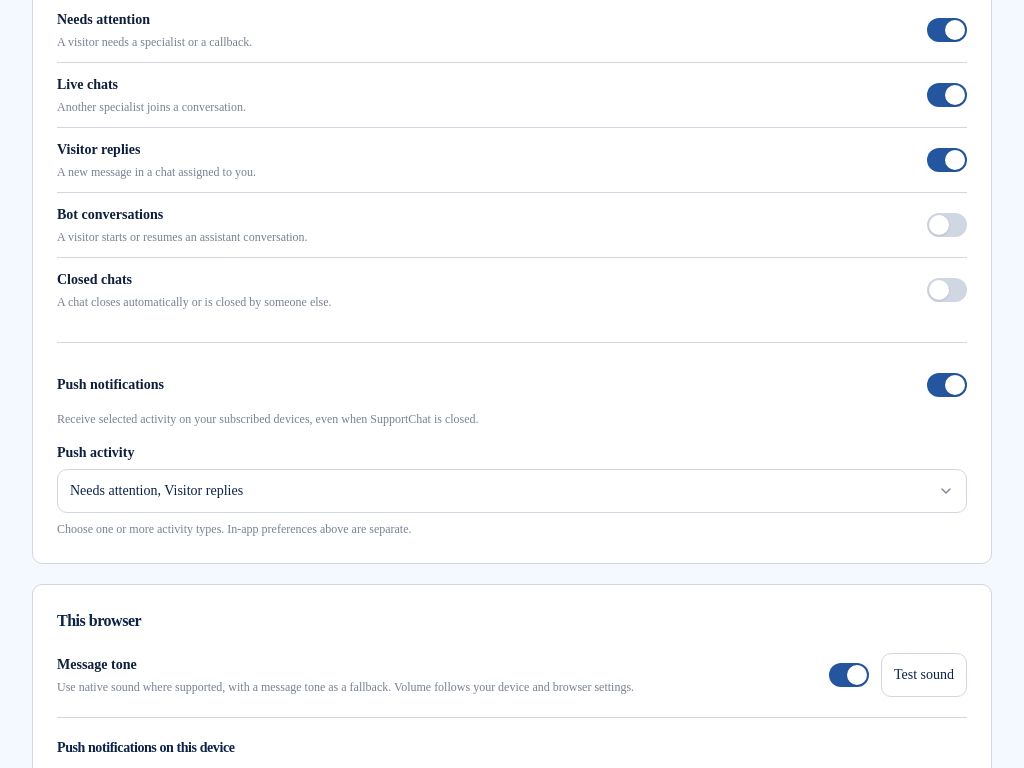
Test: a failed push save leaves the previous selection available
This screenshot has width=1024, height=768.
(page scrolled)
Click the 6th switch named "Push notifications for SampleSite" at (947, 385), box [927, 373, 967, 397]
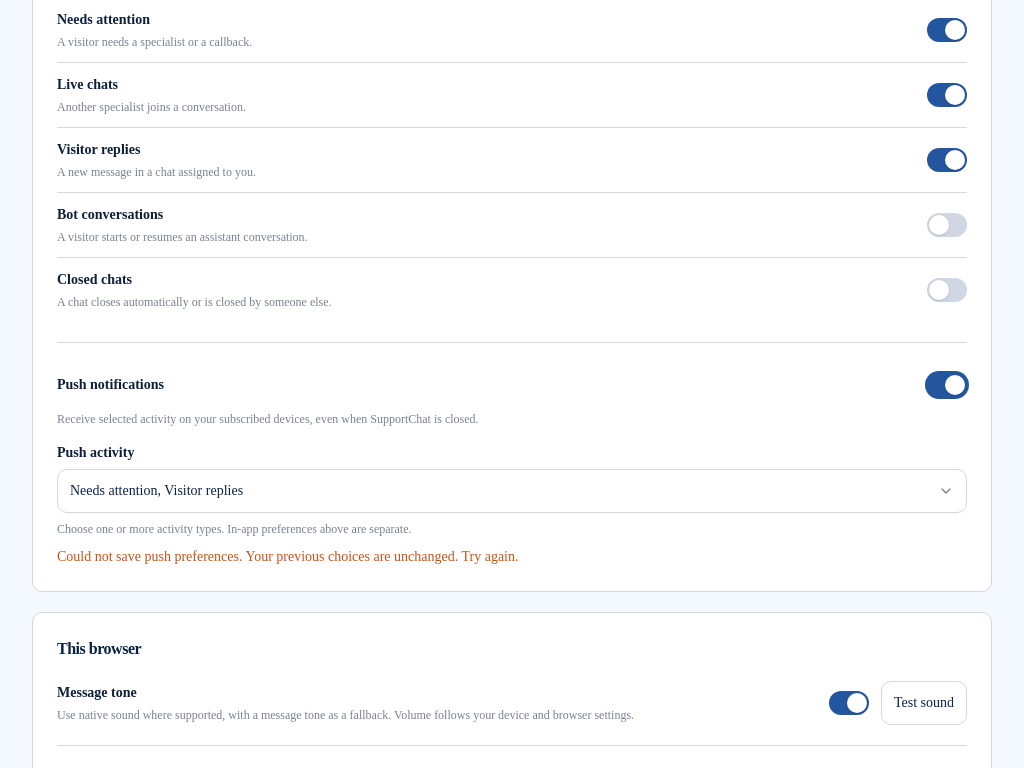
Result: the message shows "Could not save push" at [57, 549, 518, 564]
